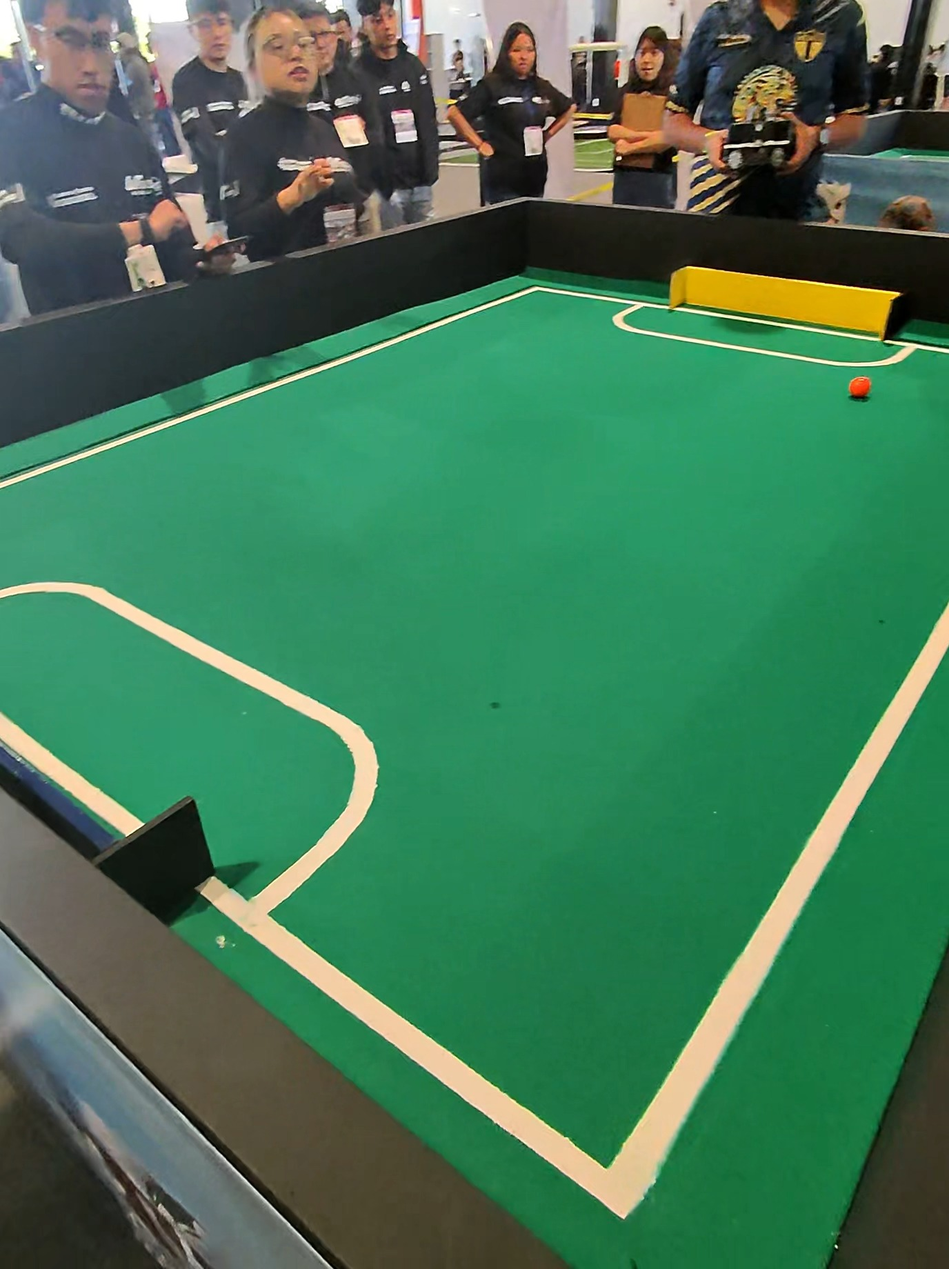pelota: (832, 366, 883, 420)
